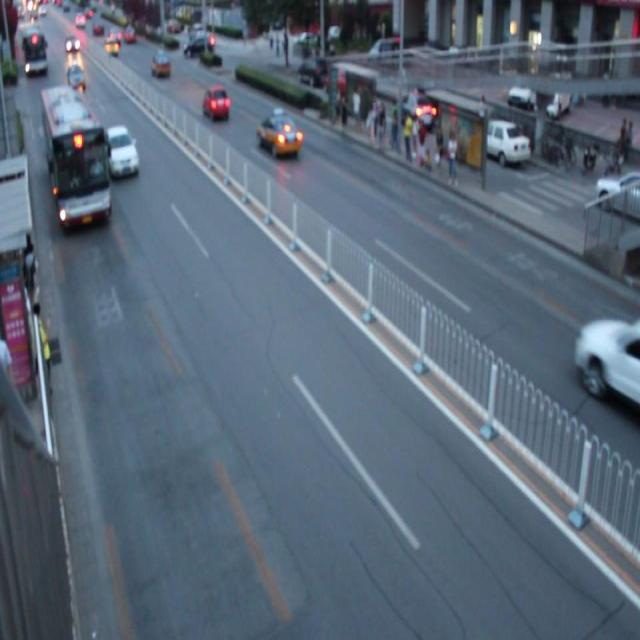car: (575, 314, 640, 429), (256, 112, 302, 162), (104, 125, 140, 182), (202, 86, 230, 124)
van: (39, 86, 111, 229)
